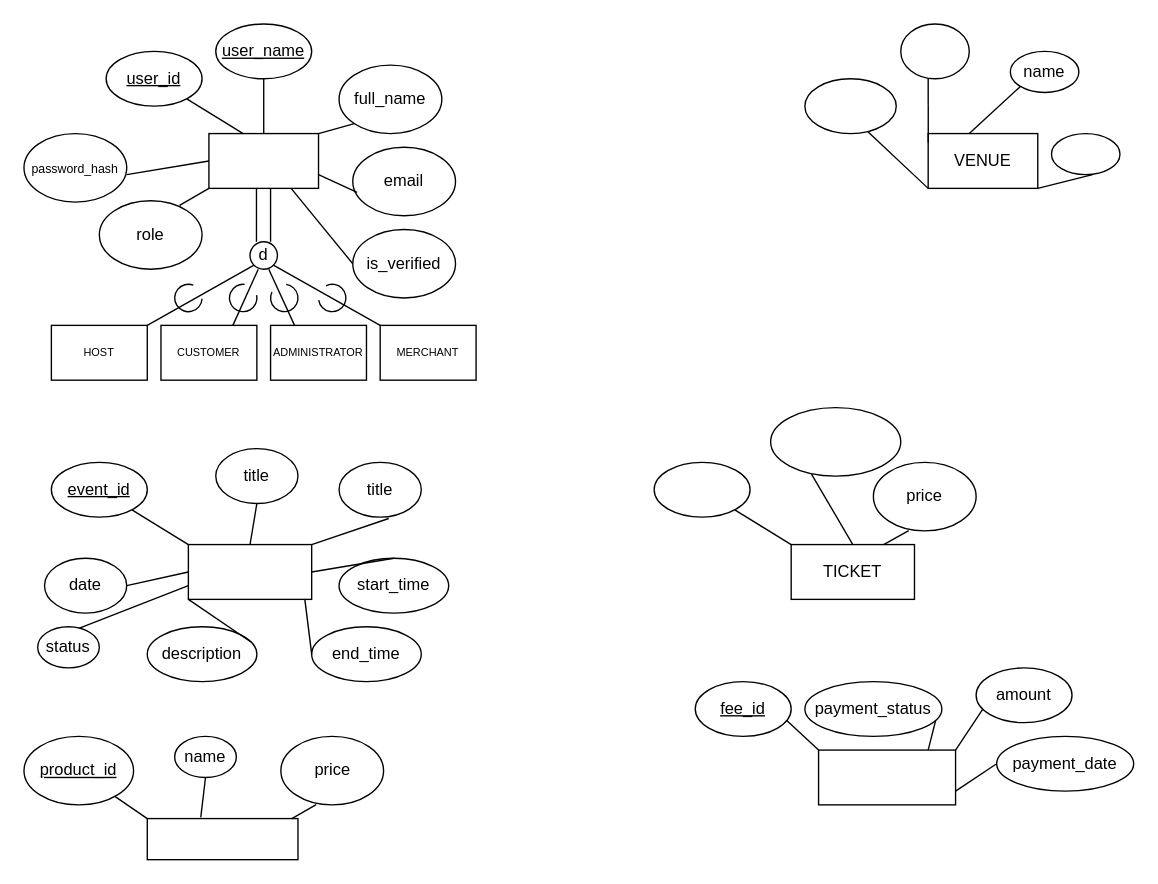
The diagram is 1158 pixels wide and 884 high, and some of its shapes have lost their labels. Each missing label, with the centre of its shape:
"address" goes at pixel 1085 153.
"booking_time" goes at pixel 835 441.
"capacity" goes at pixel 850 105.
"EVENT" goes at pixel 249 571.
"MERCHANDISE" goes at pixel 222 838.
"ticket_id" goes at pixel 701 489.
"USER" goes at pixel 263 160.
"VENUE FEE" goes at pixel 886 777.
"venue_id" goes at pixel 934 51.
